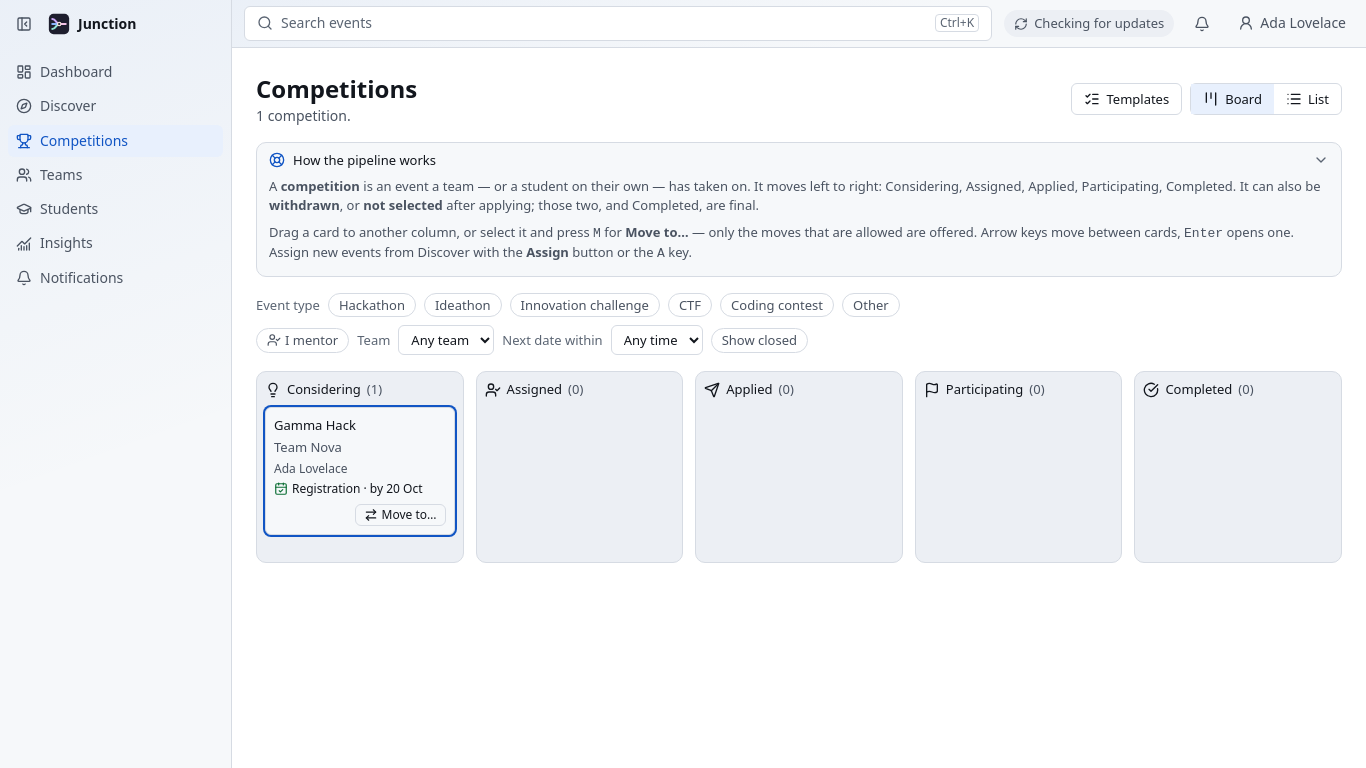
Test: Considering → Assigned on the board › Cancel moves nothing and shows no error
Expected: the navigation bar named "Main" is shown, [0,0,231,302]
Type keys "m"
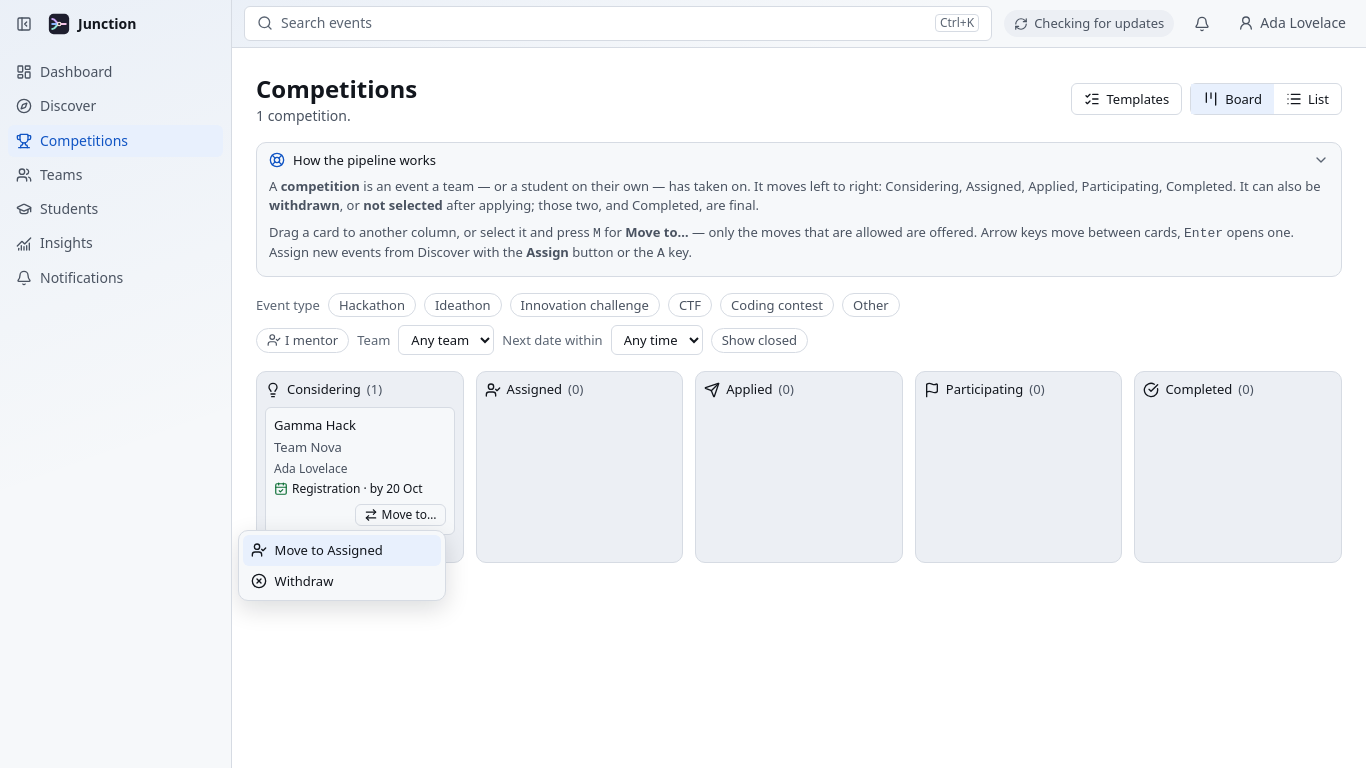
Click the menu item "Move to Assigned". click: point(342, 550)
box: [243,535,441,566]
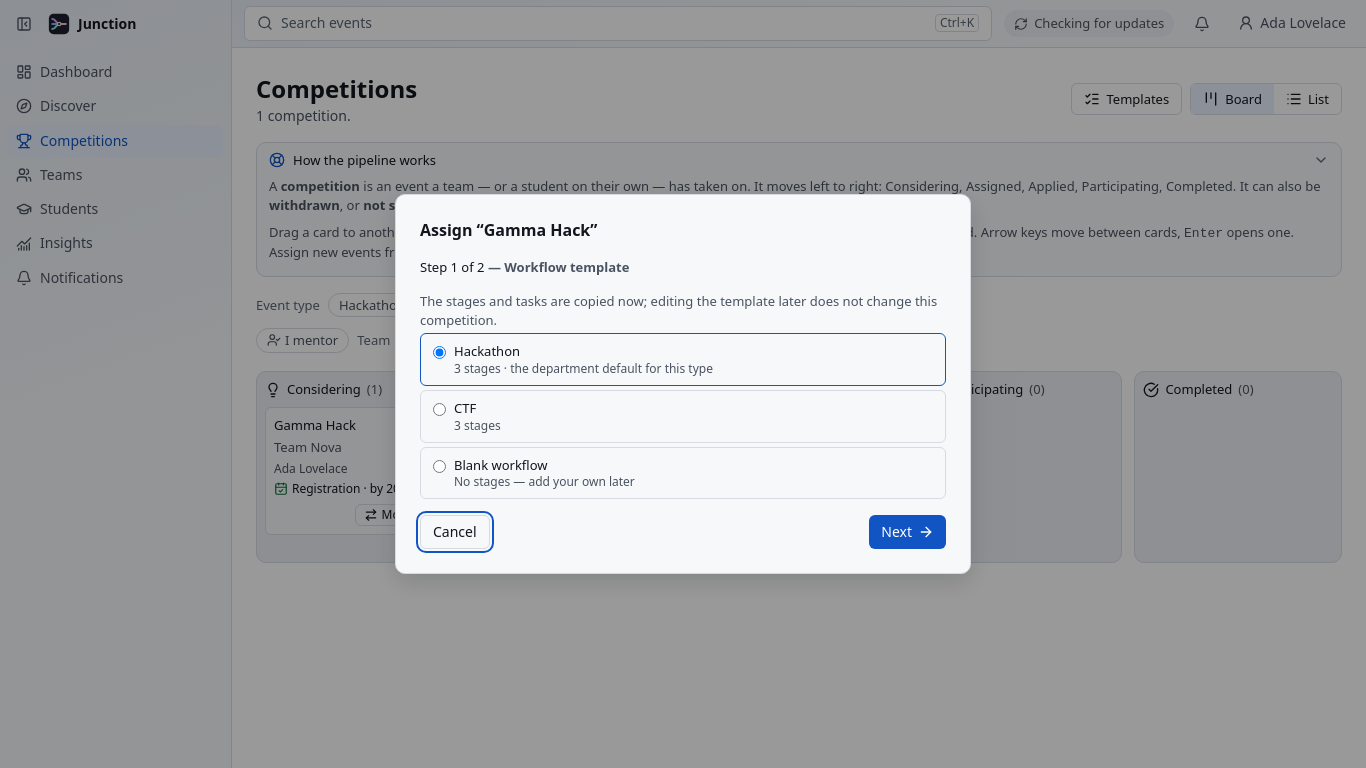
Expected: the radio button labelled "Hackathon 3 stages · the department default for this type" is shown, [433,346,446,359]
Click the button "Cancel". click: point(455, 532)
box: [420,515,490,549]
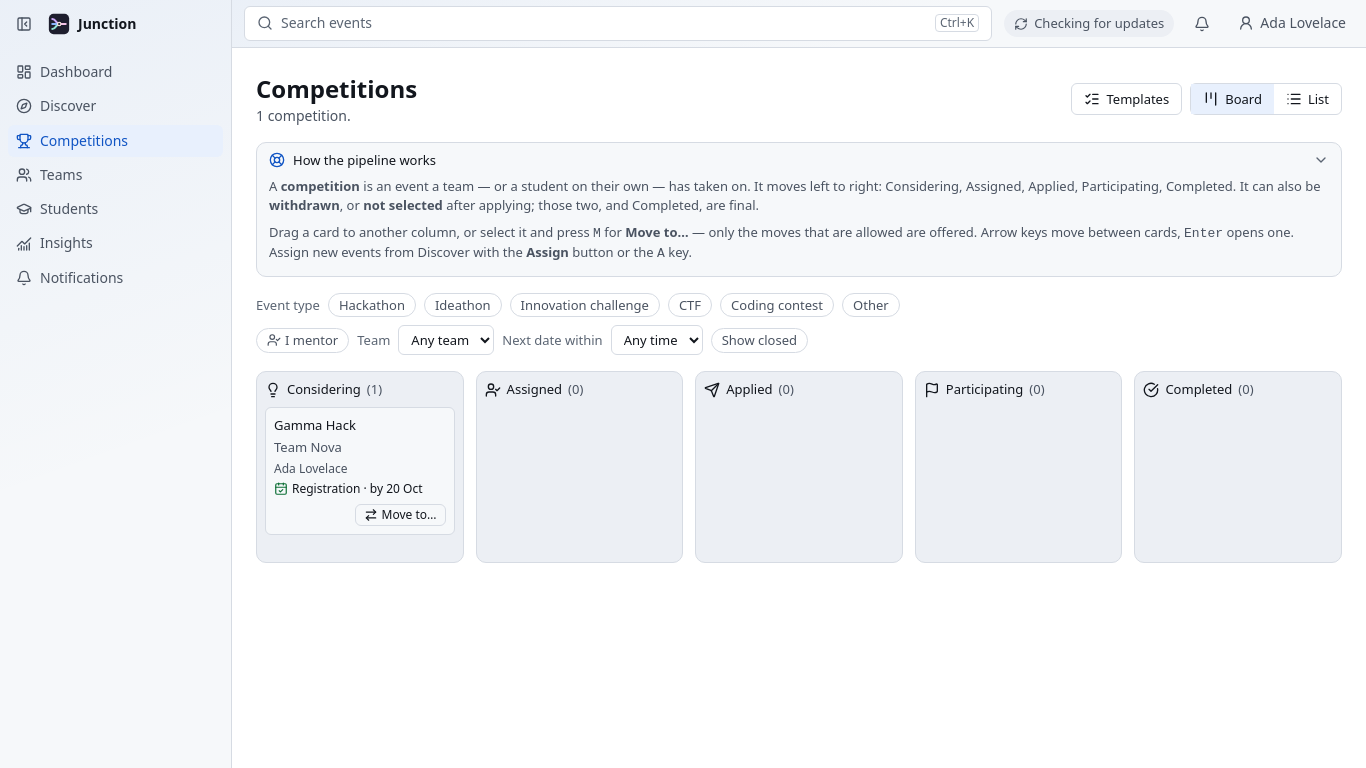
Expected: the dialog is gone
